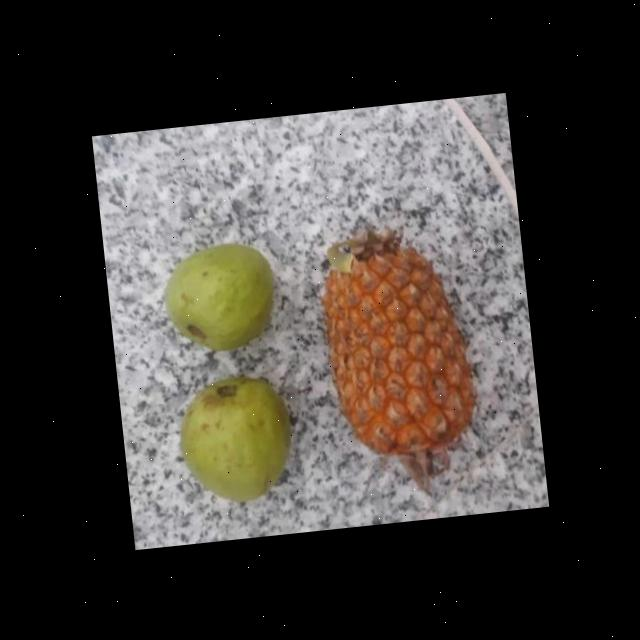guava: (172, 362, 294, 506), (160, 235, 278, 358)
pear: (158, 232, 278, 360)
pineapple: (312, 214, 480, 472)
